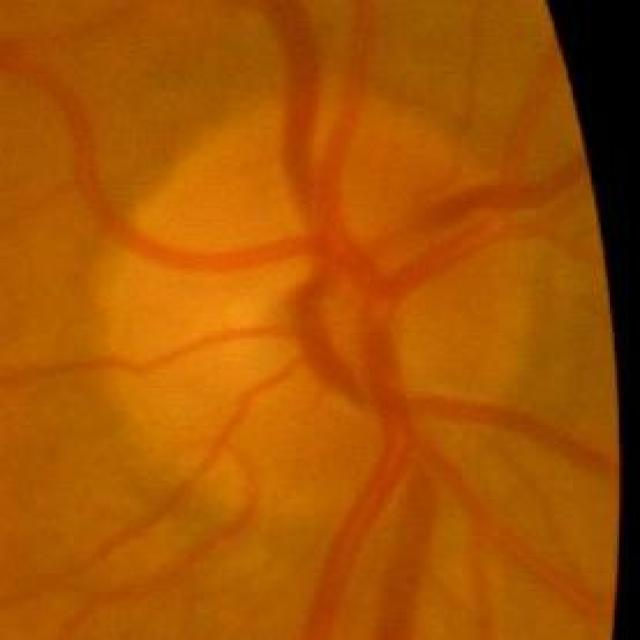OC: (200, 252, 387, 432)
OD: (100, 96, 533, 528)
